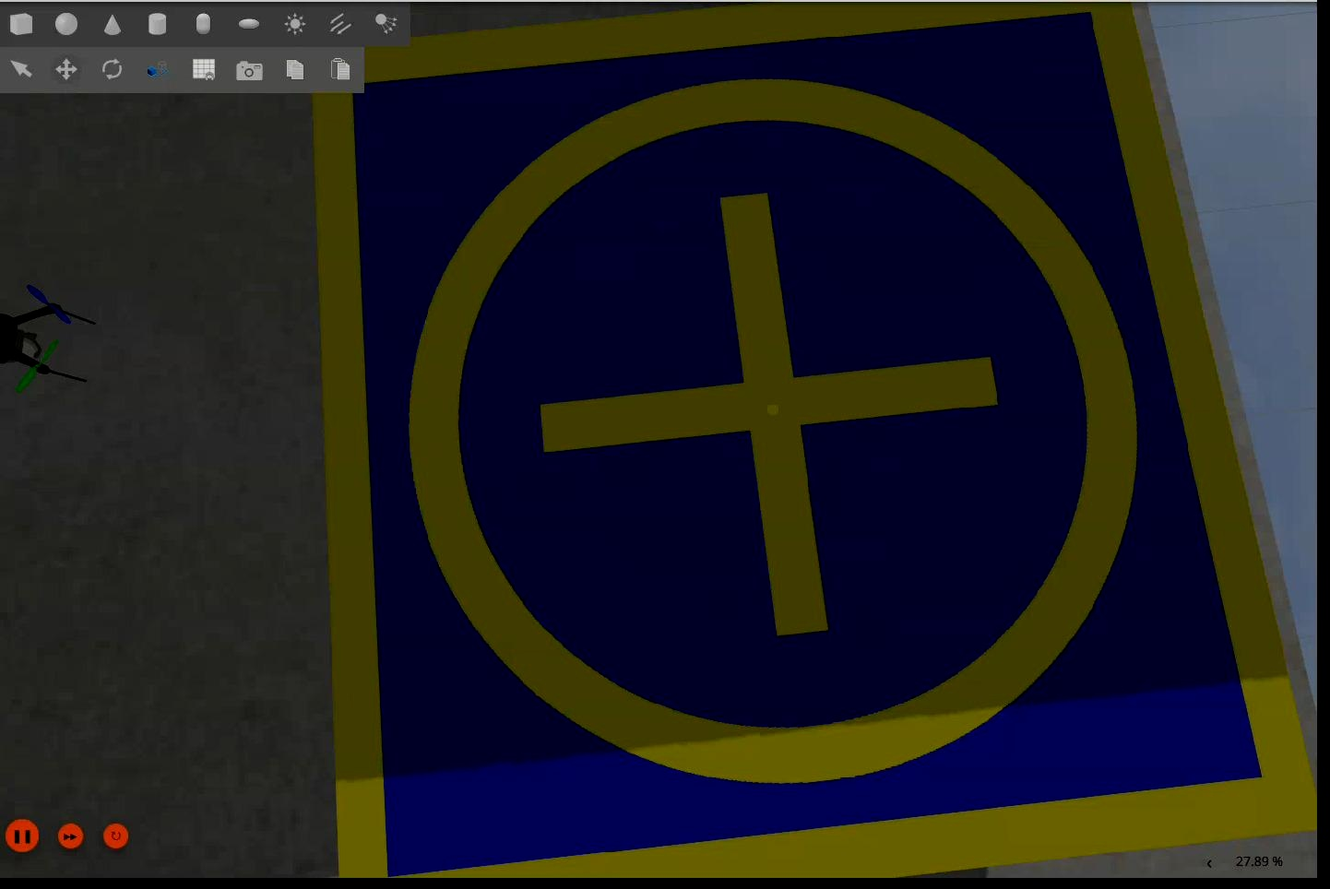small_base: (308, 1, 1323, 886)
